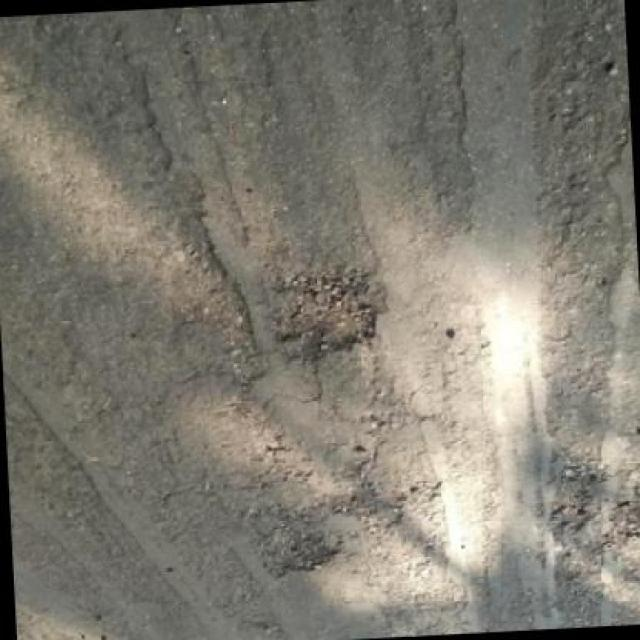pothole1: (266, 264, 391, 365), (252, 522, 345, 580)
